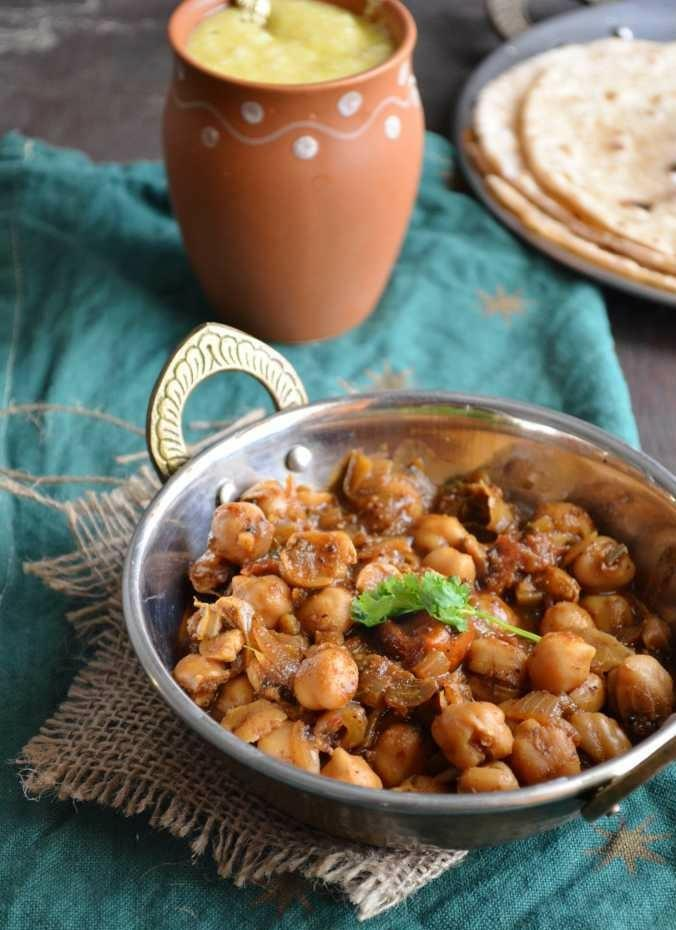Chole: (175, 450, 676, 794)
